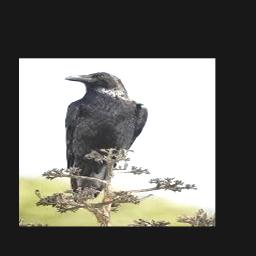Crow: (64, 72, 147, 204)
